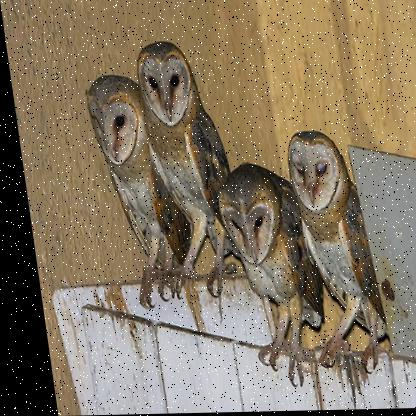Burung: (131, 41, 244, 300), (280, 131, 394, 372), (209, 162, 324, 386), (79, 72, 184, 302)
